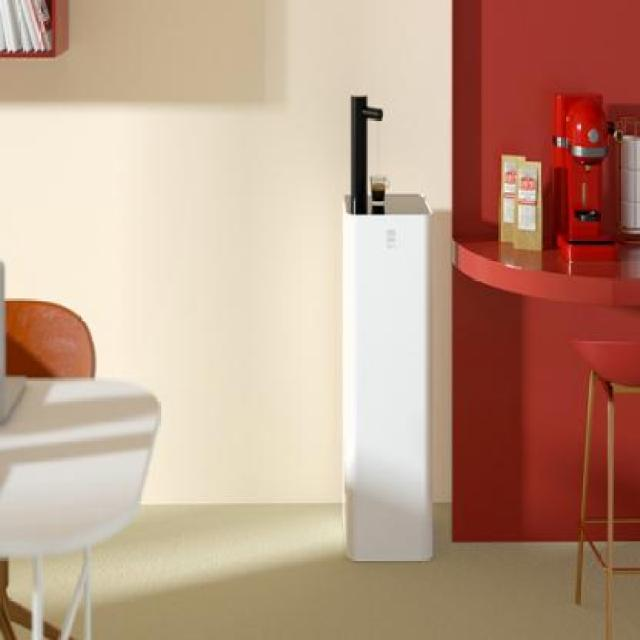cooler: (342, 90, 433, 562)
